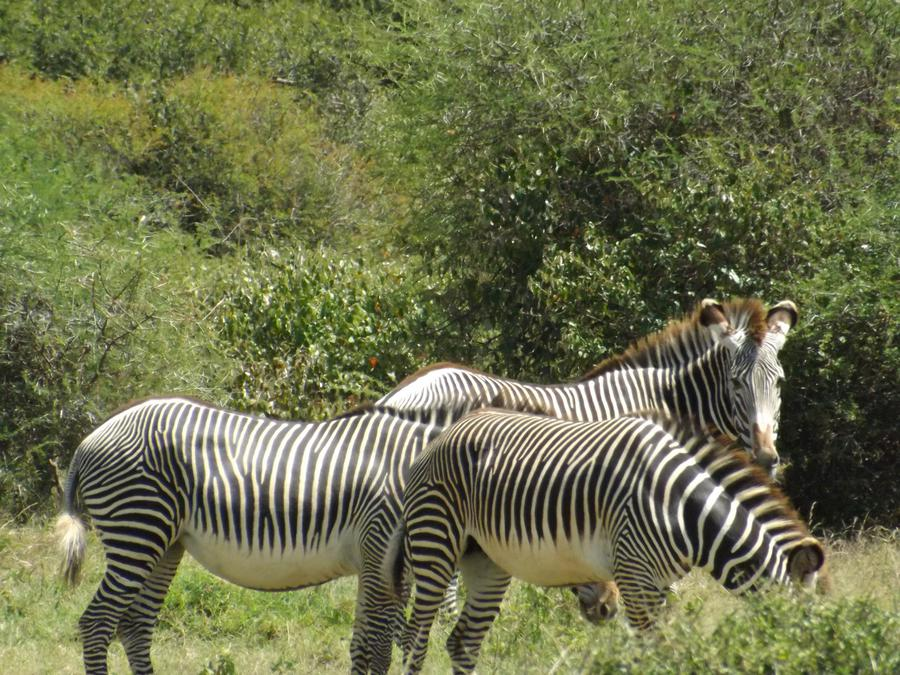zebra_grevys: (55, 381, 391, 550)
